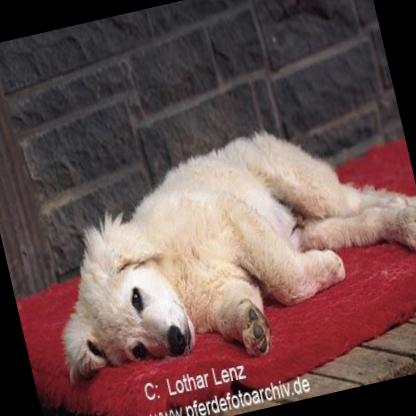kuvasz: (21, 95, 416, 401)
